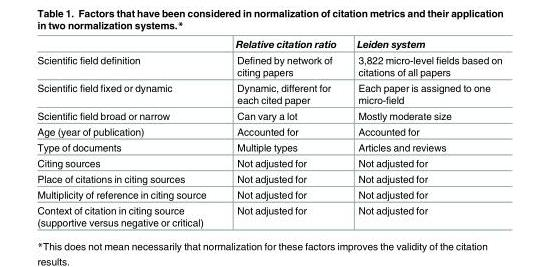table: (36, 37, 501, 227)
table column: (36, 37, 220, 227), (345, 37, 501, 227), (220, 37, 345, 227)
table column header: (36, 37, 501, 51)
table row: (36, 51, 501, 79), (36, 79, 501, 107), (36, 202, 501, 227), (36, 107, 501, 123), (36, 138, 501, 154), (36, 154, 501, 170), (36, 170, 501, 186), (36, 186, 501, 202), (36, 123, 501, 138), (36, 37, 501, 51)
